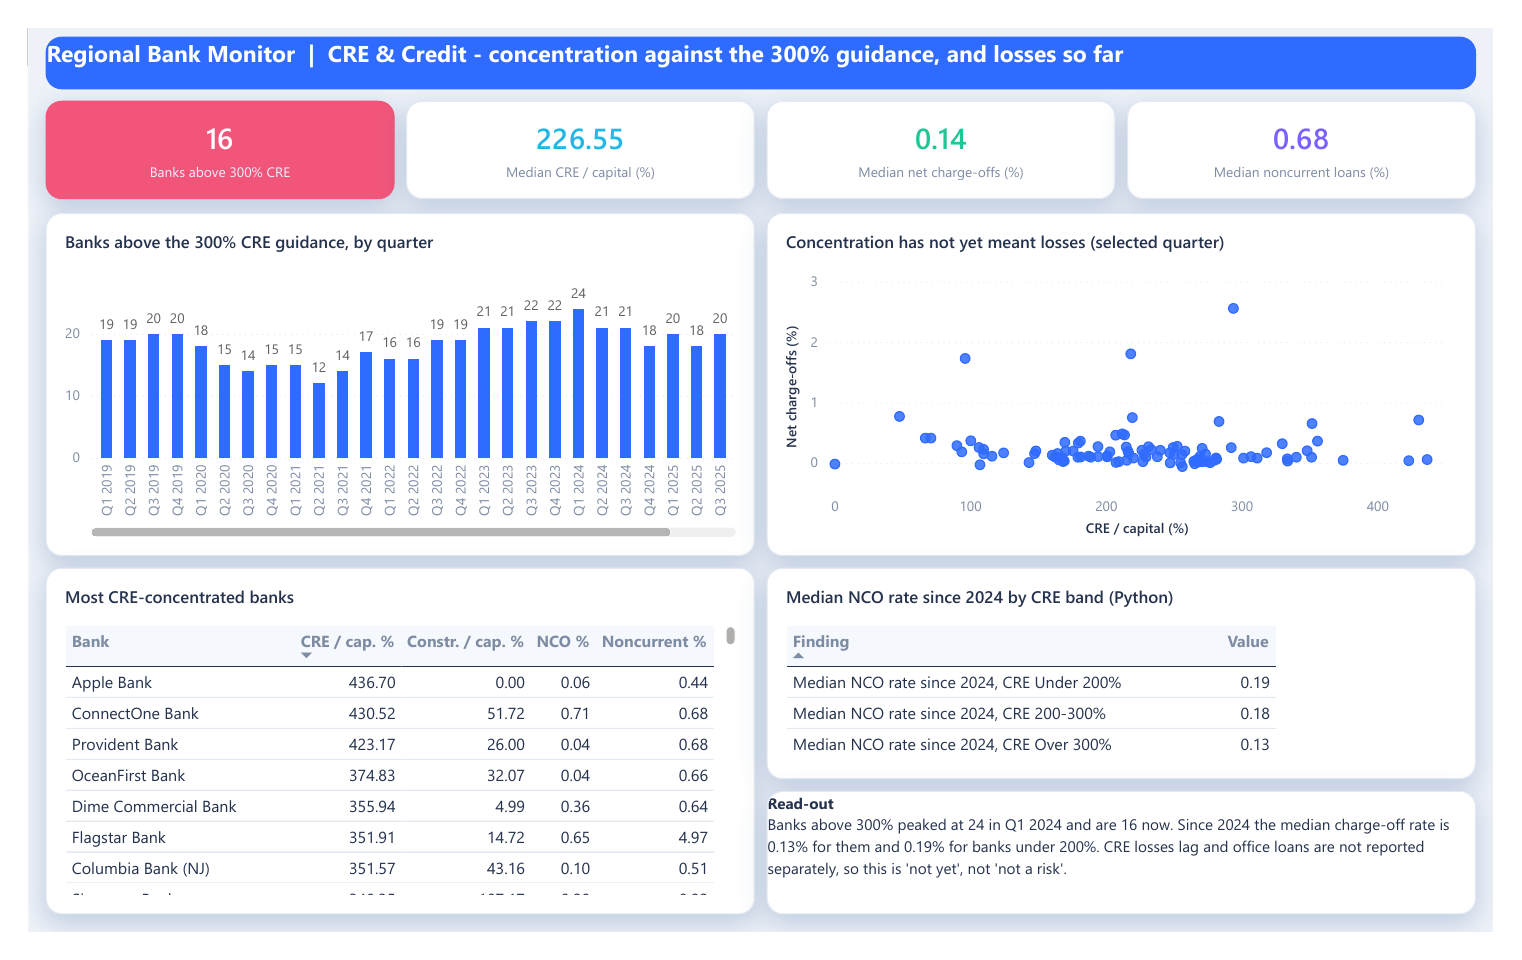

What the dashboard file says about the page in this screenshot:
{"tool":"powerbi","page":{"name":"CRE & Credit","canvas":[1280,790],"ordinal":5},"visuals":[{"type":"textbox","box":[15,8,1250,46],"z":1000},{"type":"card","fields":{"Values":["_Measures.Banks CRE Over 300%"]},"box":[15,64,305,86],"z":2000},{"type":"card","fields":{"Values":["_Measures.Median CRE / Capital %"]},"box":[330,64,305,86],"z":3000},{"type":"card","fields":{"Values":["_Measures.Median NCO Rate %"]},"box":[645,64,305,86],"z":4000},{"type":"card","fields":{"Values":["_Measures.Median Noncurrent Loans %"]},"box":[960,64,305,86],"z":5000},{"type":"columnChart","title":"Banks above the 300% CRE guidance, by quarter","fields":{"Category":["Quarters.quarter"],"Y":["_Measures.Banks CRE Over 300% by Quarter"]},"box":[15,162,620,300],"z":6000},{"type":"scatterChart","title":"Concentration has not yet meant losses (selected quarter)","fields":{"Category":["Banks.bank"],"X":["_Measures.CRE / Capital %"],"Y":["_Measures.NCO Rate %"]},"box":[645,162,620,300],"z":7000},{"type":"tableEx","title":"Most CRE-concentrated banks","fields":{"Values":["Banks.bank","_Measures.CRE / Capital %","_Measures.Construction / Capital %","_Measures.NCO Rate %","_Measures.Noncurrent Loans %"]},"box":[15,472,620,303],"z":8000},{"type":"tableEx","title":"Median NCO rate since 2024 by CRE band (Python)","fields":{"Values":["Findings.finding","_Measures.Finding Value"]},"box":[645,472,620,185],"z":9000},{"type":"textbox","box":[645,667,620,108],"z":10000}]}

Visuals, with their boxes in screenshot pixels (x1, y1, x2, y2), scaled from the page's 1280x790 canvas onto the 1522x960 screenshot:
textbox: x1=18 y1=10 x2=1504 y2=66
card - _Measures.Banks CRE Over 300%: x1=18 y1=78 x2=380 y2=182
card - _Measures.Median CRE / Capital %: x1=392 y1=78 x2=755 y2=182
card - _Measures.Median NCO Rate %: x1=767 y1=78 x2=1130 y2=182
card - _Measures.Median Noncurrent Loans %: x1=1142 y1=78 x2=1504 y2=182
"Banks above the 300% CRE guidance, by quarter" columnChart: x1=18 y1=197 x2=755 y2=561
"Concentration has not yet meant losses (selected quarter)" scatterChart: x1=767 y1=197 x2=1504 y2=561
"Most CRE-concentrated banks" tableEx: x1=18 y1=574 x2=755 y2=942
"Median NCO rate since 2024 by CRE band (Python)" tableEx: x1=767 y1=574 x2=1504 y2=798
textbox: x1=767 y1=811 x2=1504 y2=942
